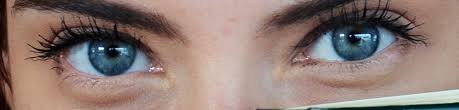pupil: (89, 32, 136, 74), (332, 23, 379, 60)
